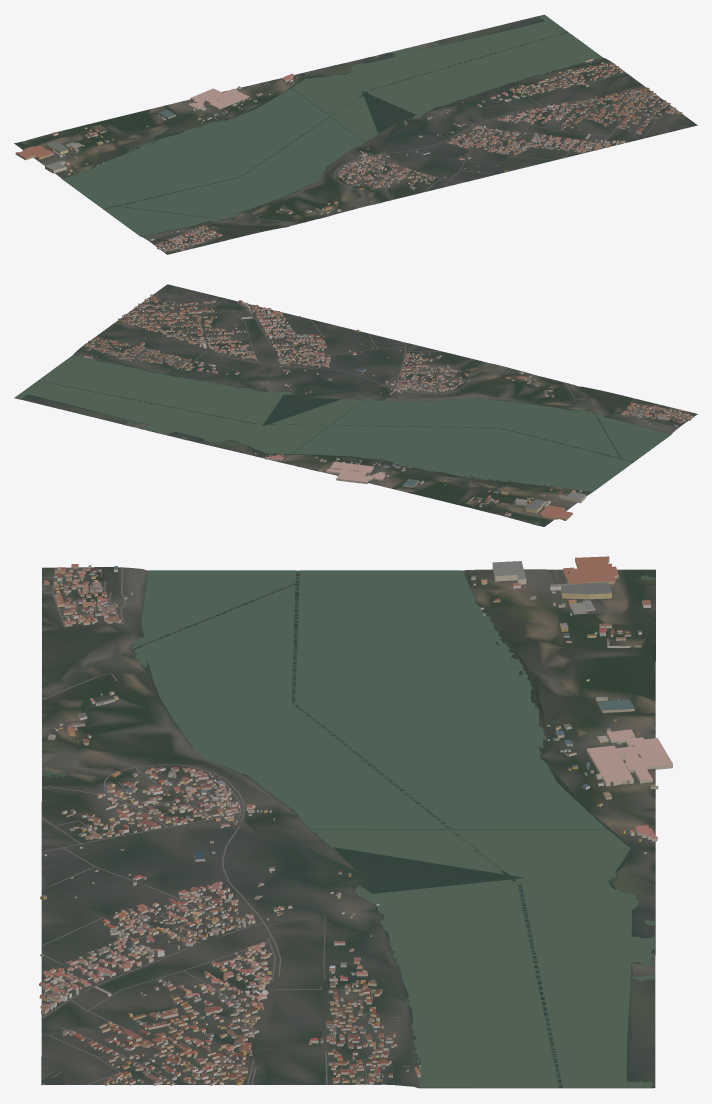
3 renders of one model, top to bottom at view 1: azimuth 30°, elevation 25°; view 2: azimuth 150°, elevation 25°; view 3: azimuth 270°, elevation 25°, orthographic. The views are drawn at different scales.
Visible parts, largest first — view 1: ground, water, buildings, roads; view 2: ground, water, buildings, roads; view 3: water, ground, buildings, roads.
Boxes of the visible parts, left/top/right/bottom form: ground: left=14, top=14, right=697, bottom=254; water: left=21, top=15, right=602, bottom=236; buildings: left=15, top=58, right=682, bottom=251; roads: left=148, top=59, right=697, bottom=252; ground: left=14, top=284, right=697, bottom=526; water: left=15, top=355, right=670, bottom=524; buildings: left=83, top=294, right=692, bottom=520; roads: left=78, top=284, right=693, bottom=428; water: left=42, top=570, right=655, bottom=1087; ground: left=41, top=567, right=655, bottom=1088; buildings: left=39, top=556, right=672, bottom=1085; roads: left=41, top=567, right=409, bottom=1085.
Bounding box in the file's own units: 2856 × 25.27 × 1448.
